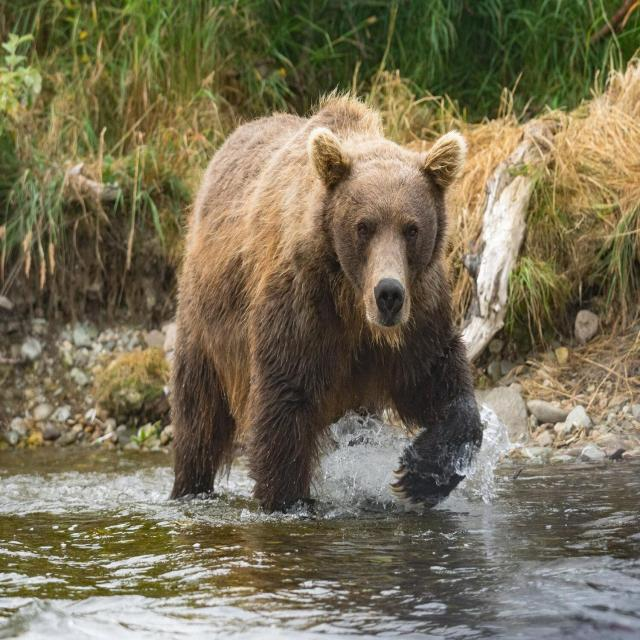Bear: (168, 97, 485, 515)
